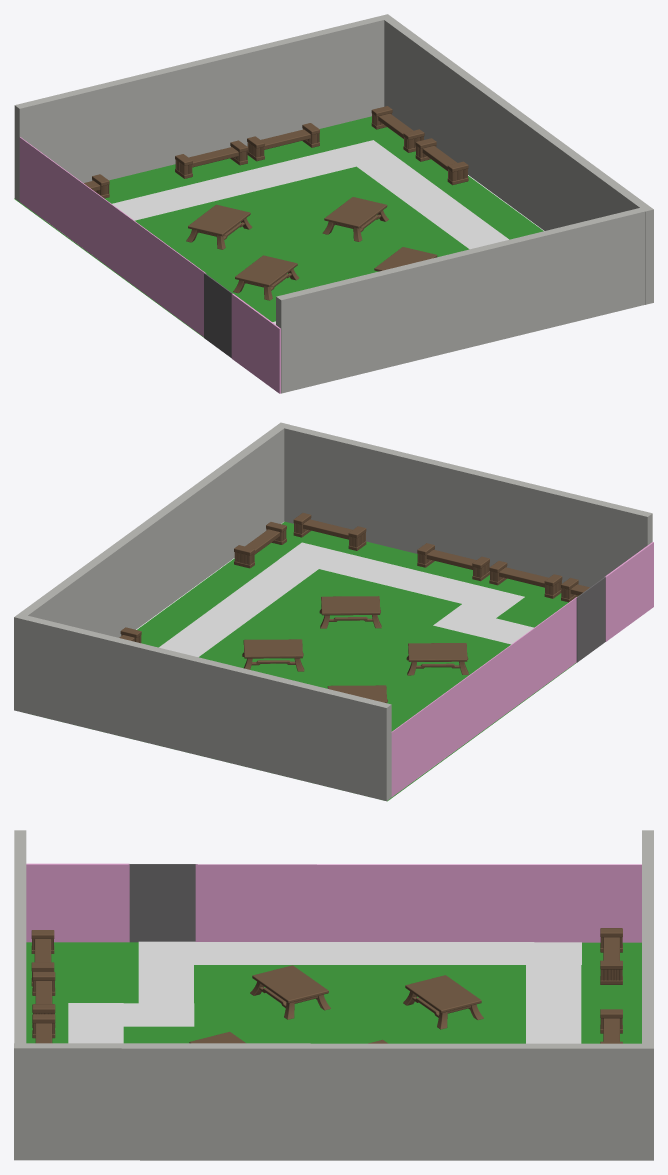
File: Yard.dae
3 views of the same model, one above another, from view 1: azimuth 30°, elevation 25°; view 2: azimuth 150°, elevation 25°; view 3: azimuth 270°, elevation 25° (orthographic). The views are drawn at different scales.
Parts seen in each view (by area): view 1: Cube.009, Cube.010, Plane, Cube.006, Cube.004, bonsai-table.001, Plane.005, Plane.006, wall3.003, wall3.008; view 2: Cube.010, Cube.009, Plane, Cube.006, Cube.004, bonsai-table.001, Plane.004, Plane.005, wall3.003, wall3.008, Plane.003, Plane.002; view 3: Cube.006, Cube.004, Plane, bonsai-table.001, Plane.007, wall3.003, wall3.008, Plane.006, Plane.002, Cube.009, Cube.010, Plane.004 (+1 smaller).
Boxes of the visible parts, <box> form: Cube.009: <box>276,206,652,393</box>; Cube.010: <box>14,14,390,201</box>; Plane: <box>14,116,543,337</box>; Cube.006: <box>380,14,653,304</box>; Cube.004: <box>19,137,206,336</box>; bonsai-table.001: <box>84,106,468,300</box>; Plane.005: <box>334,140,508,249</box>; Plane.006: <box>112,147,365,220</box>; wall3.003: <box>231,293,280,393</box>; wall3.008: <box>204,273,232,357</box>; Cube.010: <box>16,614,391,801</box>; Cube.009: <box>277,423,652,587</box>; Plane: <box>137,521,576,801</box>; Cube.006: <box>14,422,288,712</box>; Cube.004: <box>391,597,576,796</box>; bonsai-table.001: <box>119,513,589,703</box>; Plane.004: <box>279,542,524,613</box>; Plane.005: <box>159,553,325,657</box>; wall3.003: <box>605,542,653,641</box>; wall3.008: <box>576,576,605,662</box>; Plane.003: <box>433,604,501,634</box>; Plane.002: <box>473,616,533,644</box>; Cube.006: <box>14,1043,653,1160</box>; Cube.004: <box>195,864,641,942</box>; Plane: <box>26,942,641,1043</box>; bonsai-table.001: <box>31,928,622,1043</box>; Plane.007: <box>192,941,581,964</box>; wall3.003: <box>26,863,129,942</box>; wall3.008: <box>129,864,197,942</box>; Plane.006: <box>526,957,581,1043</box>; Plane.002: <box>138,941,193,1006</box>; Cube.009: <box>14,830,26,1047</box>; Cube.010: <box>642,830,653,1047</box>; Plane.004: <box>68,1003,123,1043</box>.
Bounding box in the file's own units: 18.78 × 23.15 × 4.5.
